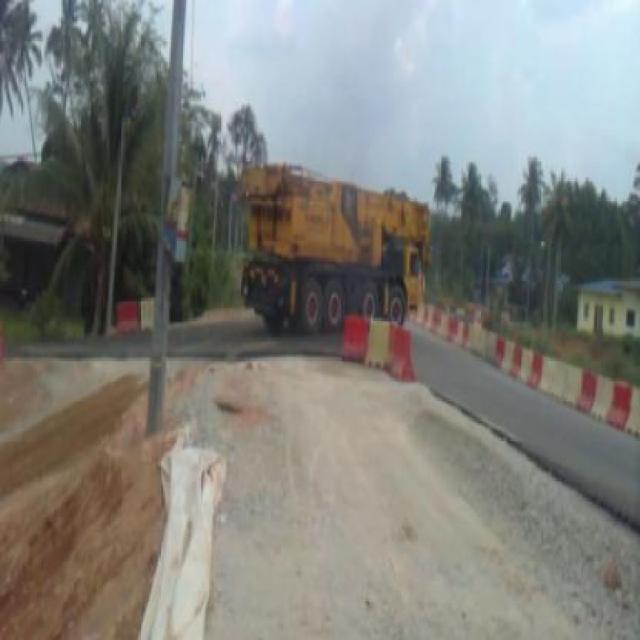Mobile Crane: (242, 149, 427, 305)
